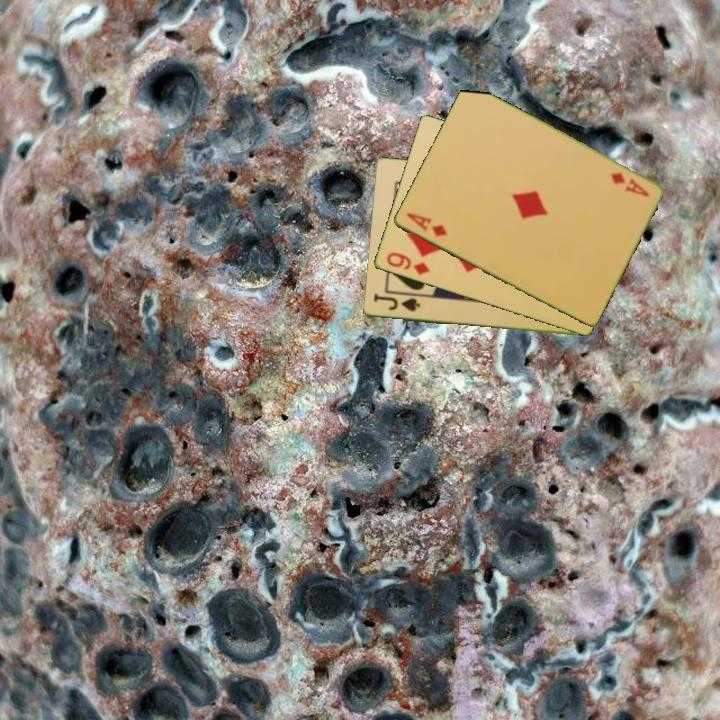9d: (383, 249, 432, 278)
Ad: (403, 209, 450, 240), (606, 169, 652, 200)
Js: (370, 292, 423, 314)
